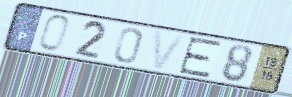0: (36, 13, 75, 54), (112, 26, 144, 64)
2: (73, 20, 108, 61)
8: (220, 43, 255, 84)
E: (176, 36, 225, 80)
V: (152, 29, 188, 71)
